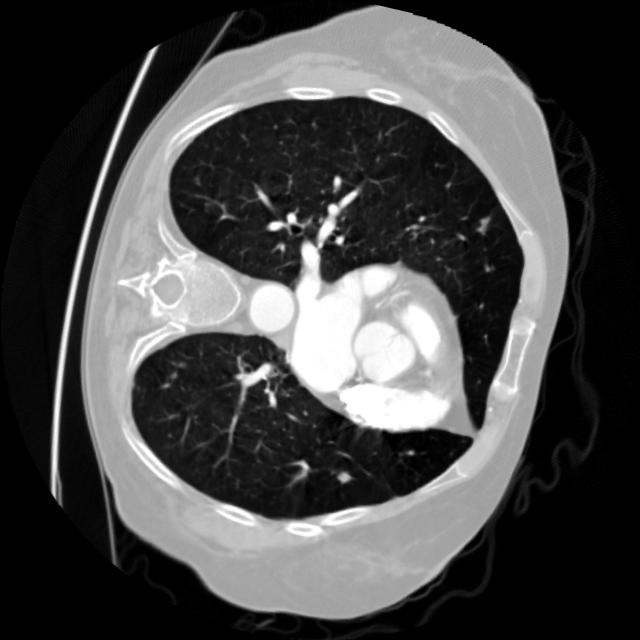nodule: (473, 211, 499, 237)
